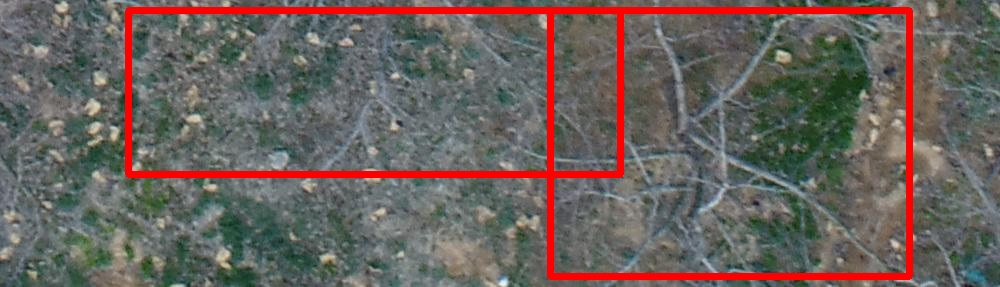apple: (550, 10, 909, 276), (128, 10, 620, 174)
